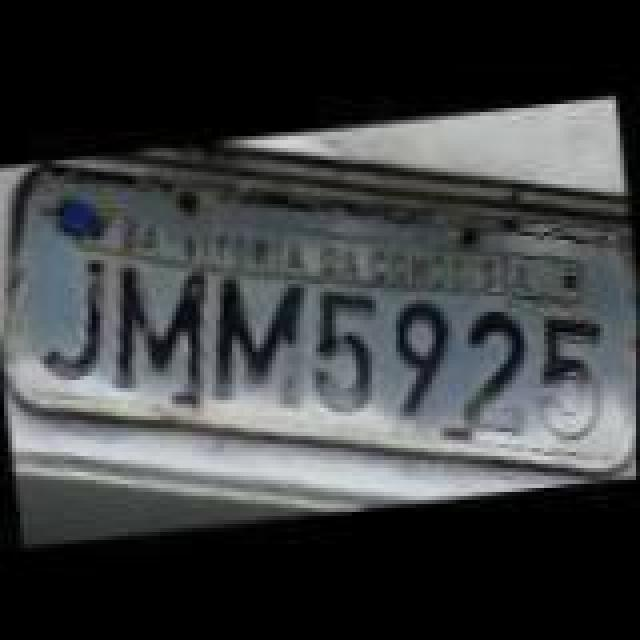2: (446, 302, 542, 446)
5: (528, 306, 620, 446), (306, 282, 394, 418)
9: (378, 290, 458, 422)
J: (30, 250, 126, 382)
M: (98, 246, 218, 398), (196, 266, 312, 414)
